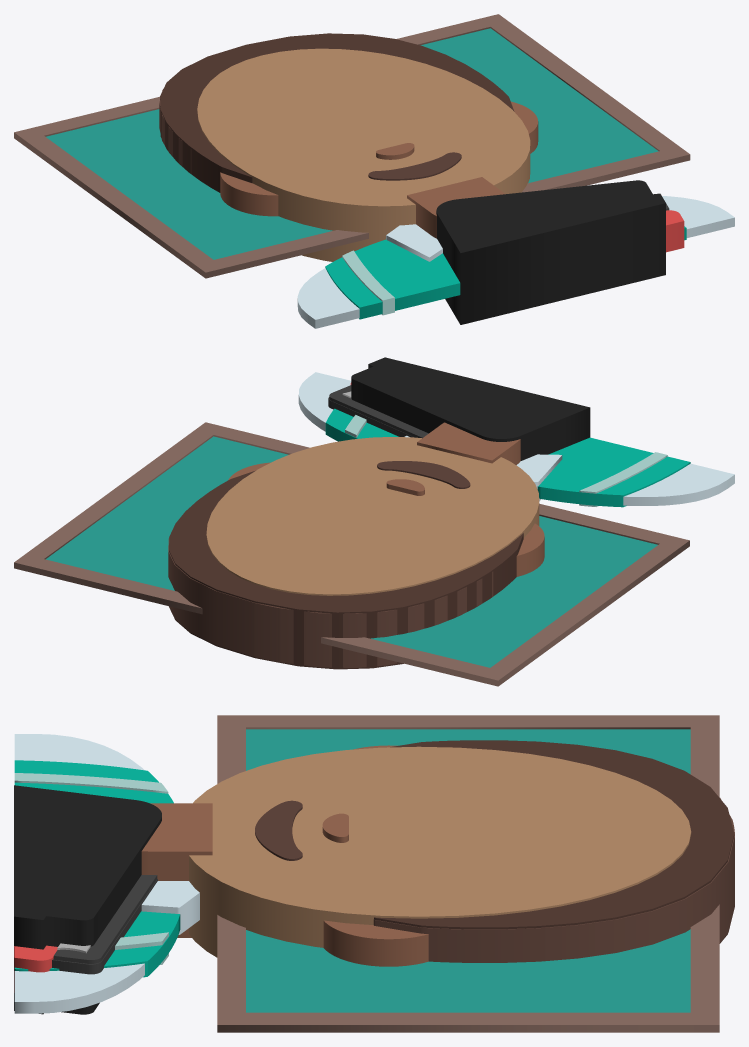
Rendered from emoji_u1f468_1f3fd_200d_1f3eb.glb.
3 renders of one model, top to bottom at view 1: azimuth 30°, elevation 25°; view 2: azimuth 150°, elevation 25°; view 3: azimuth 270°, elevation 25°, orthographic. The views are drawn at different scales.
Visible parts, largest first — view 1: emoji_u1f468_1f3fd_200d_1f3eb; view 2: emoji_u1f468_1f3fd_200d_1f3eb; view 3: emoji_u1f468_1f3fd_200d_1f3eb.
Boxes of the visible parts, box(x1,y1,x2,y2) form: emoji_u1f468_1f3fd_200d_1f3eb: box(14, 14, 734, 328); emoji_u1f468_1f3fd_200d_1f3eb: box(14, 357, 734, 686); emoji_u1f468_1f3fd_200d_1f3eb: box(14, 715, 734, 1032).
Size of the model in its own units: 0.0338 by 0.0048 by 0.0333.
